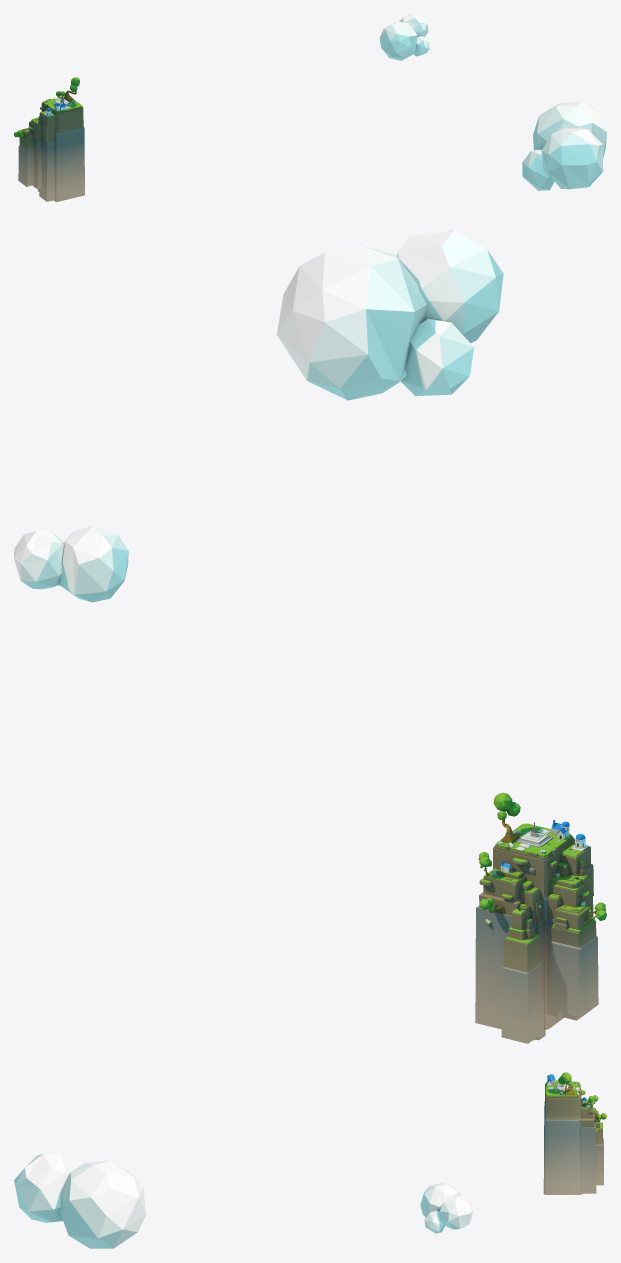
Rendered from peaceful_mountain_village.glb.
The picture shows the model from 3 angles, top to bottom: view 1: azimuth 30°, elevation 25°; view 2: azimuth 150°, elevation 25°; view 3: azimuth 270°, elevation 25°; orthographic projection. The views are drawn at different scales.
Visible parts, largest first — view 1: SM_Clouds_2_0, SM_Mounain_Cloud_0; view 2: SM_Clouds_2_0, SM_Mounain_Cloud_0; view 3: SM_Clouds_2_0, SM_Mounain_Cloud_0.
Boxes of the visible parts, <box> form: SM_Clouds_2_0: <box>379,14,606,190</box>; SM_Mounain_Cloud_0: <box>14,77,84,201</box>; SM_Clouds_2_0: <box>14,230,503,602</box>; SM_Mounain_Cloud_0: <box>475,792,606,1043</box>; SM_Clouds_2_0: <box>14,1154,472,1248</box>; SM_Mounain_Cloud_0: <box>543,1072,606,1194</box>.
Bounding box in the file's own units: 17.24 × 7.43 × 21.11.
Materials: 3 (3 with a texture image).
